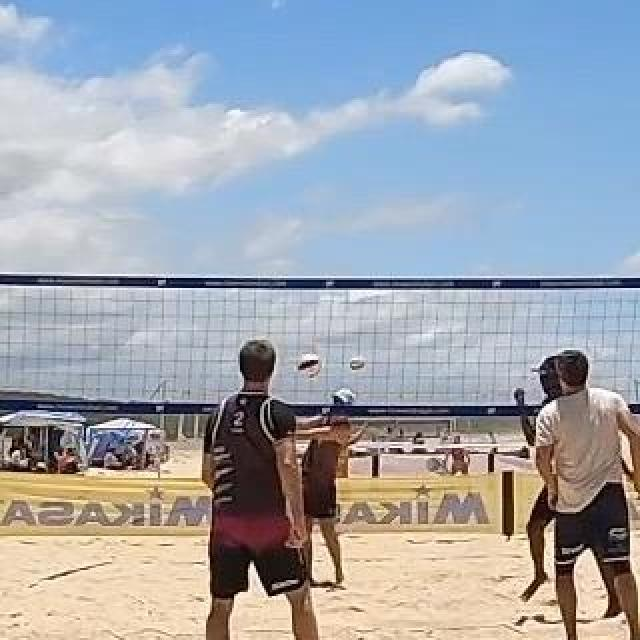volleyball: (298, 353, 322, 379), (350, 357, 364, 371)
